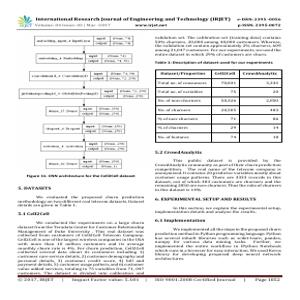diagram: (152, 68, 284, 147)
image: (12, 12, 34, 28)
table: (18, 30, 150, 172)
text: (152, 149, 283, 264), (17, 174, 146, 278), (152, 32, 281, 65), (35, 15, 281, 29)
